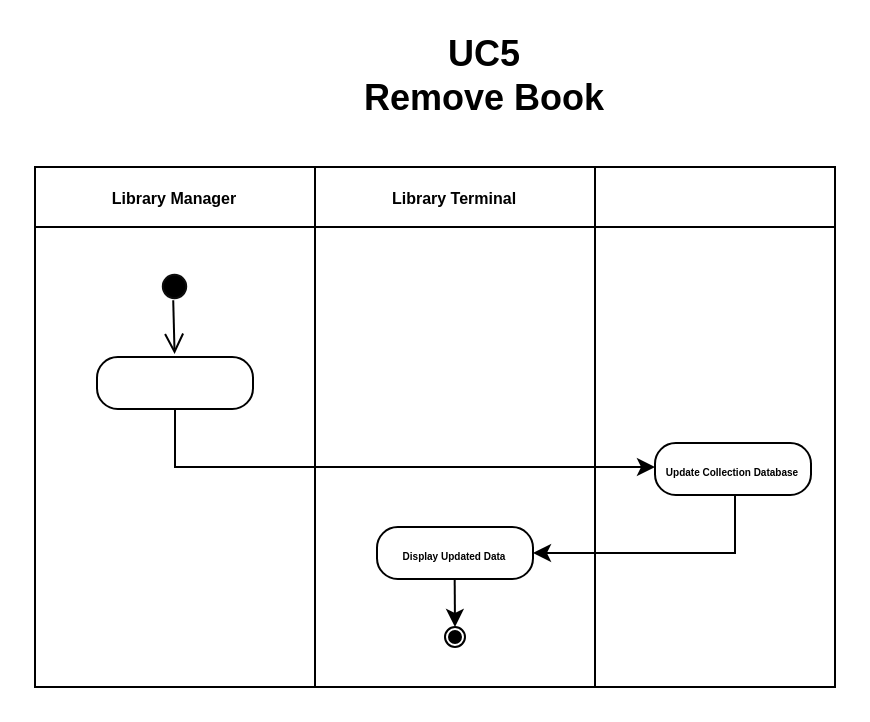
Some shapes in this 870 by 722 pixel diagram are drawn without their labels. The shapes that lost their labels are listed below. From the top down, each one's box as (x1, y1, x2, y2) in pixels, then its label:
(95, 355, 253, 409): Remove Book
(593, 165, 835, 687): Library System
